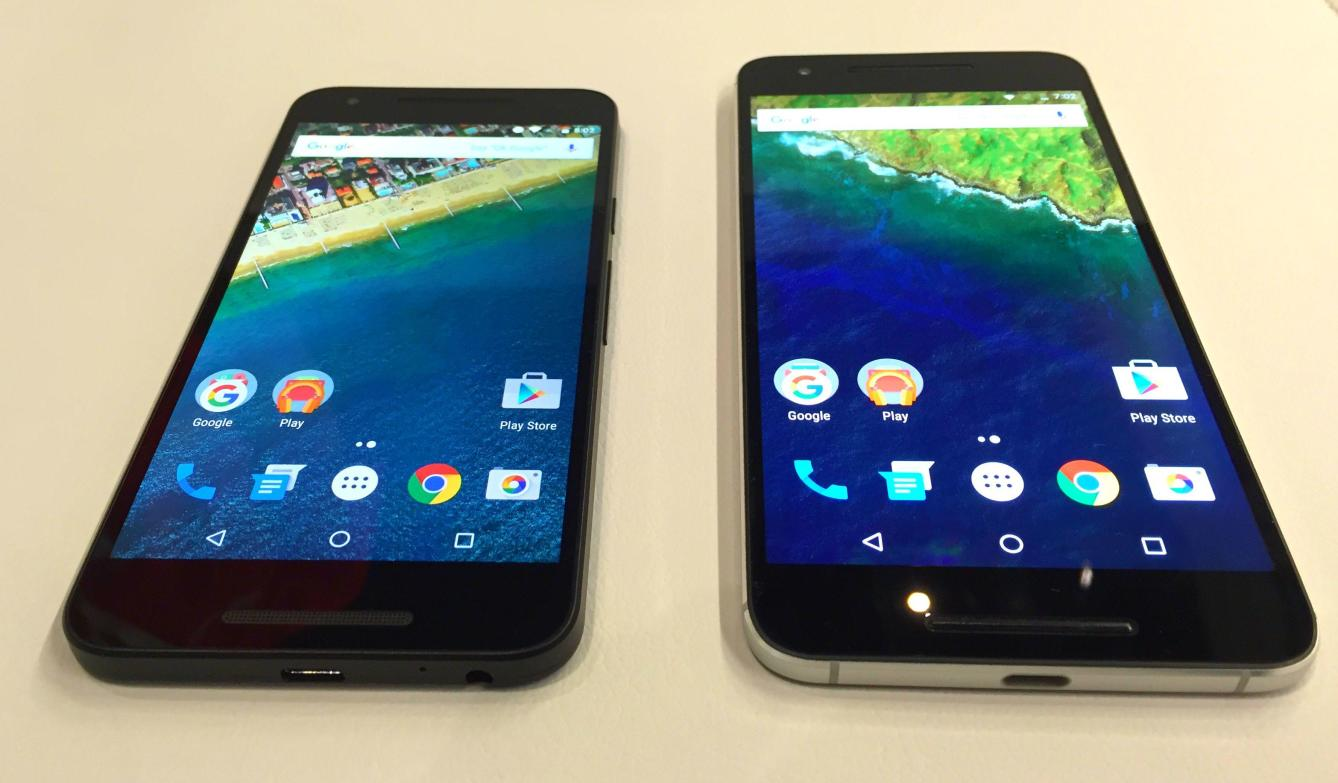smartphone: (737, 50, 1319, 695), (61, 85, 620, 690)
